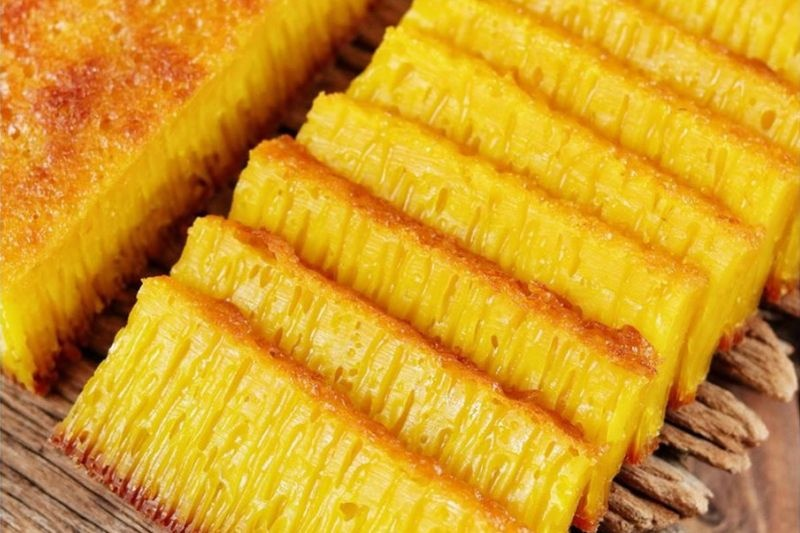bika_ambon: (163, 128, 643, 528), (44, 276, 526, 533)
